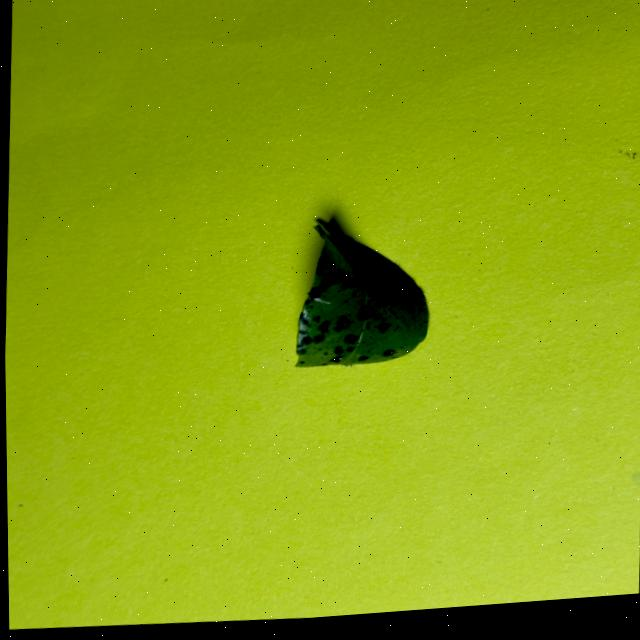sooty_mold: (295, 224, 427, 366)
